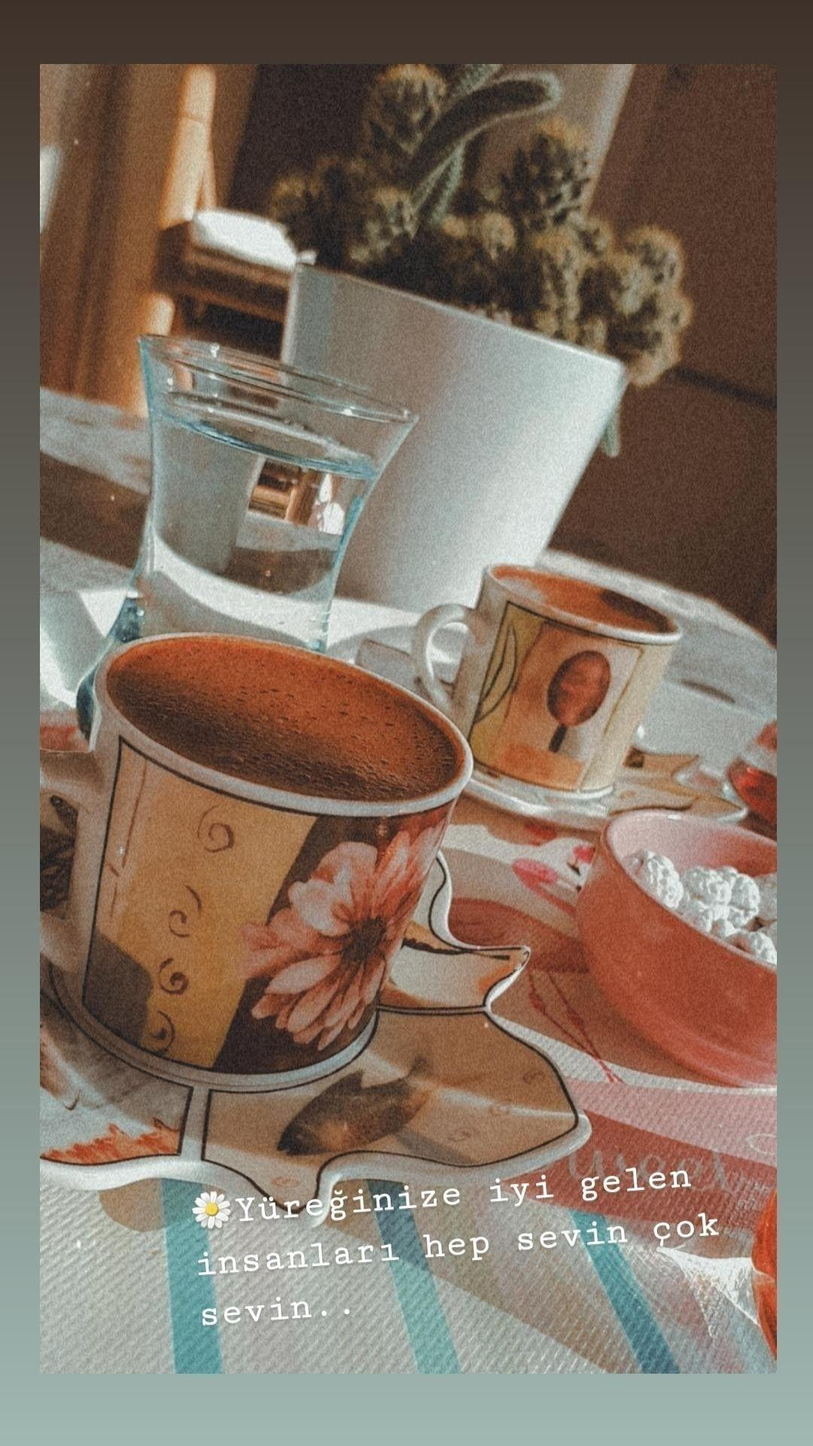cup-handle: (34, 632, 483, 1097), (413, 562, 683, 802)
glass-normal: (122, 330, 414, 575)
